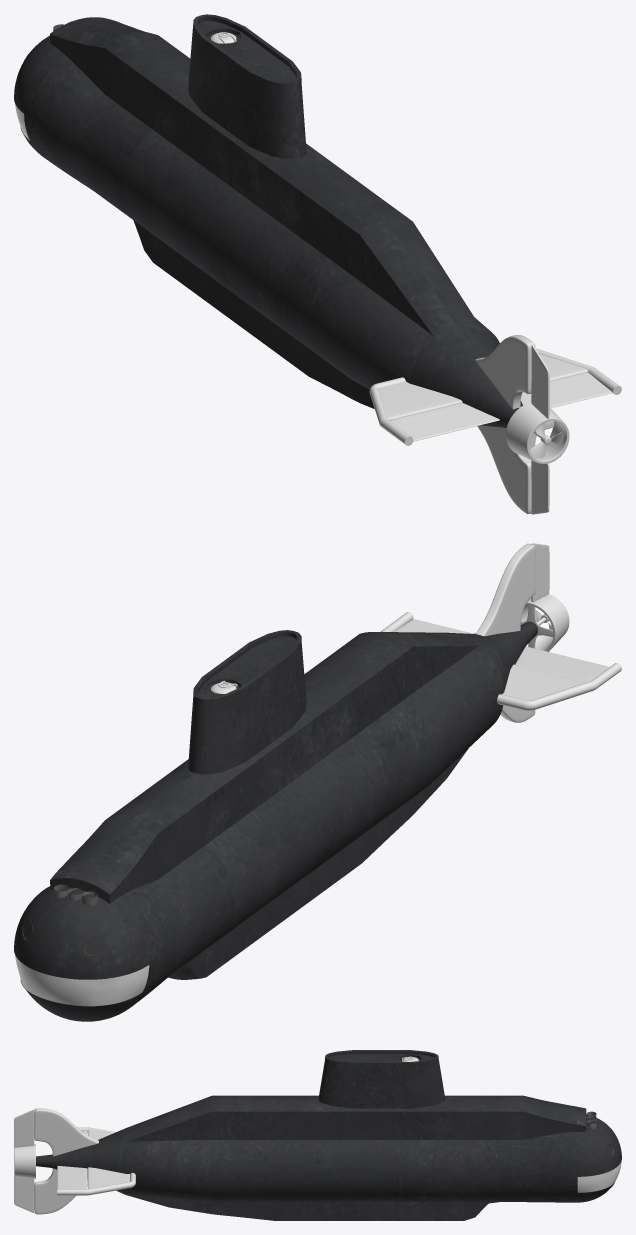
The model's file is submarine 1.fbx.
The picture shows the model from 3 angles, top to bottom: view 1: azimuth 30°, elevation 25°; view 2: azimuth 150°, elevation 25°; view 3: azimuth 270°, elevation 25°; orthographic projection. The views are drawn at different scales.
Parts seen in each view (by area): view 1: Cube.194, Cube.193, Cube.190, Cube.192, Cylinder.225, Cube.191, Cube.189; view 2: Cube.194, Cube.193, Cube.187, Cube.190, Cube.192, Cube.189, Cylinder.225, Cube.191; view 3: Cube.194, Cube.193, Cube.191, Cube.192, Cube.190, Cube.189, Cylinder.225, Cube.187.
Part boxes in pixels (x1=…): Cube.194: x1=14, y1=14, x2=522, y2=427; Cube.193: x1=475, y1=335, x2=535, y2=513; Cube.190: x1=390, y1=372, x2=611, y2=441; Cube.192: x1=378, y1=354, x2=587, y2=420; Cylinder.225: x1=506, y1=402, x2=569, y2=463; Cube.191: x1=531, y1=345, x2=549, y2=514; Cube.189: x1=369, y1=348, x2=621, y2=445; Cube.194: x1=14, y1=621, x2=537, y2=1021; Cube.193: x1=476, y1=543, x2=535, y2=722; Cube.187: x1=15, y1=955, x2=149, y2=1006; Cube.190: x1=394, y1=619, x2=609, y2=682; Cube.192: x1=502, y1=664, x2=586, y2=700; Cube.189: x1=380, y1=612, x2=621, y2=710; Cylinder.225: x1=521, y1=594, x2=569, y2=651; Cube.191: x1=531, y1=543, x2=549, y2=651; Cube.194: x1=36, y1=1050, x2=621, y2=1220; Cube.193: x1=34, y1=1108, x2=98, y2=1214; Cube.191: x1=14, y1=1109, x2=34, y2=1212; Cube.192: x1=88, y1=1130, x2=129, y2=1188; Cube.190: x1=57, y1=1131, x2=87, y2=1189; Cube.189: x1=57, y1=1127, x2=135, y2=1195; Cylinder.225: x1=14, y1=1143, x2=35, y2=1178; Cube.187: x1=577, y1=1161, x2=621, y2=1192.
Bounding box in the file's own units: 925 × 1070 × 3672.
